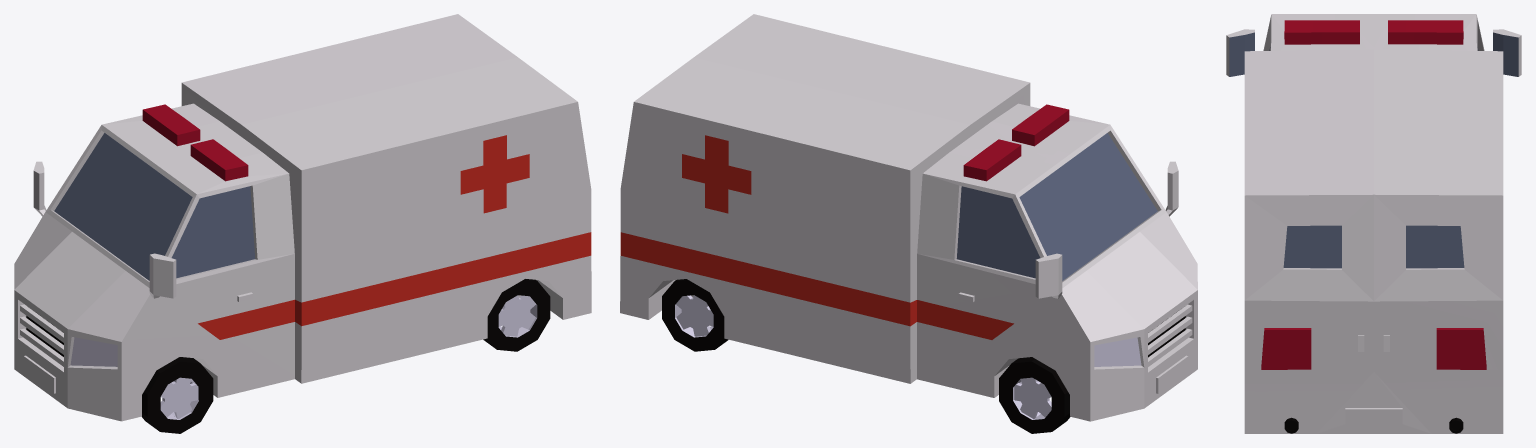
Rendered from ambulance.glb.
3 views of the same model, side by side, from view 1: azimuth 30°, elevation 25°; view 2: azimuth 150°, elevation 25°; view 3: azimuth 270°, elevation 25° (orthographic). The views are drawn at different scales.
Parts seen in each view (by area): view 1: chassis, flwheel, blwheel; view 2: chassis, frwheel, brwheel; view 3: chassis.
Part boxes in pixels (x1=…): chassis: x1=14, y1=14, x2=591, y2=421; flwheel: x1=142, y1=357, x2=213, y2=433; blwheel: x1=483, y1=279, x2=550, y2=351; chassis: x1=620, y1=14, x2=1197, y2=421; frwheel: x1=999, y1=357, x2=1070, y2=433; brwheel: x1=662, y1=279, x2=728, y2=351; chassis: x1=1226, y1=14, x2=1521, y2=433.
Bounding box in the file's own units: 5.91 × 2.75 × 2.81.
